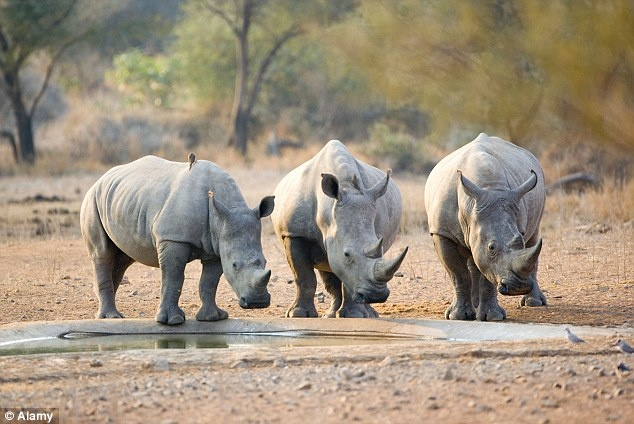rhino: (175, 238, 372, 413), (339, 228, 478, 407), (485, 222, 609, 407)
